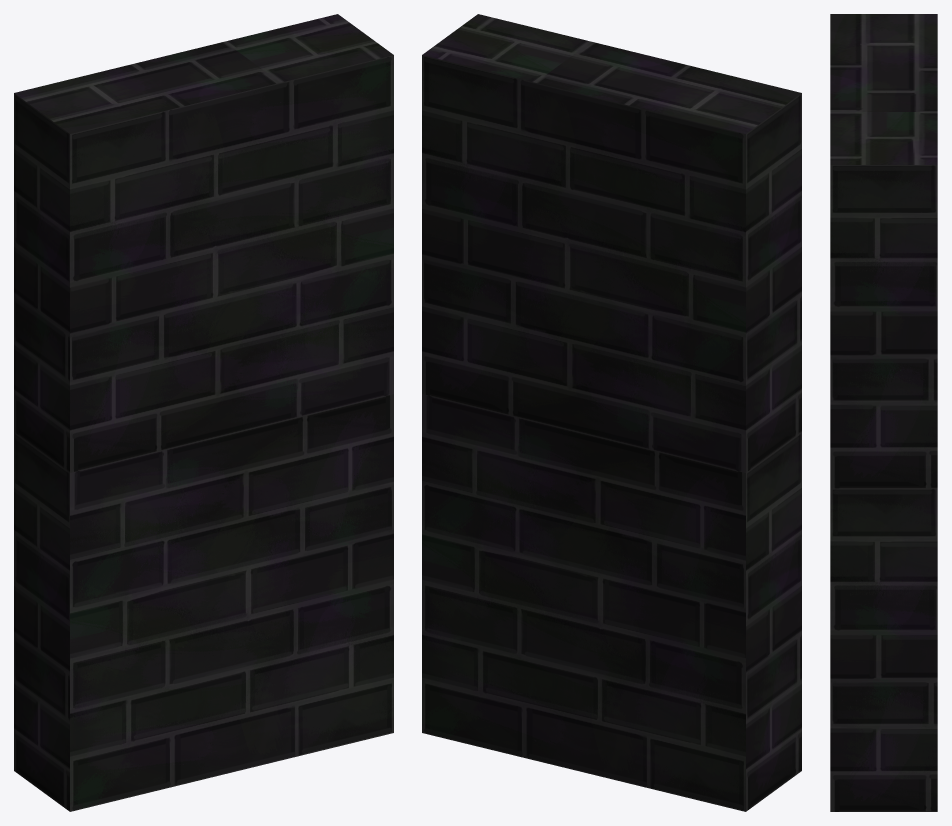
Rendered from WallTextured.fbx.
3 views of the same model, side by side, from view 1: azimuth 30°, elevation 25°; view 2: azimuth 150°, elevation 25°; view 3: azimuth 270°, elevation 25° (orthographic). The views are drawn at different scales.
Visible parts, largest first — view 1: Cube.277; view 2: Cube.277; view 3: Cube.277.
Boxes of the visible parts, box(x1,y1,x2,y2) form: Cube.277: box(14, 14, 393, 811); Cube.277: box(422, 14, 801, 811); Cube.277: box(830, 14, 937, 811).
Bounding box in the file's own units: 200 × 400 × 60.
